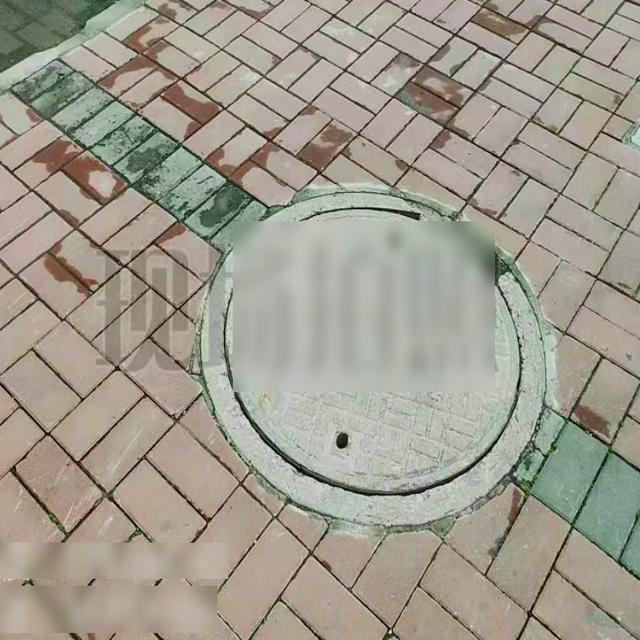circle: (193, 191, 551, 538)
